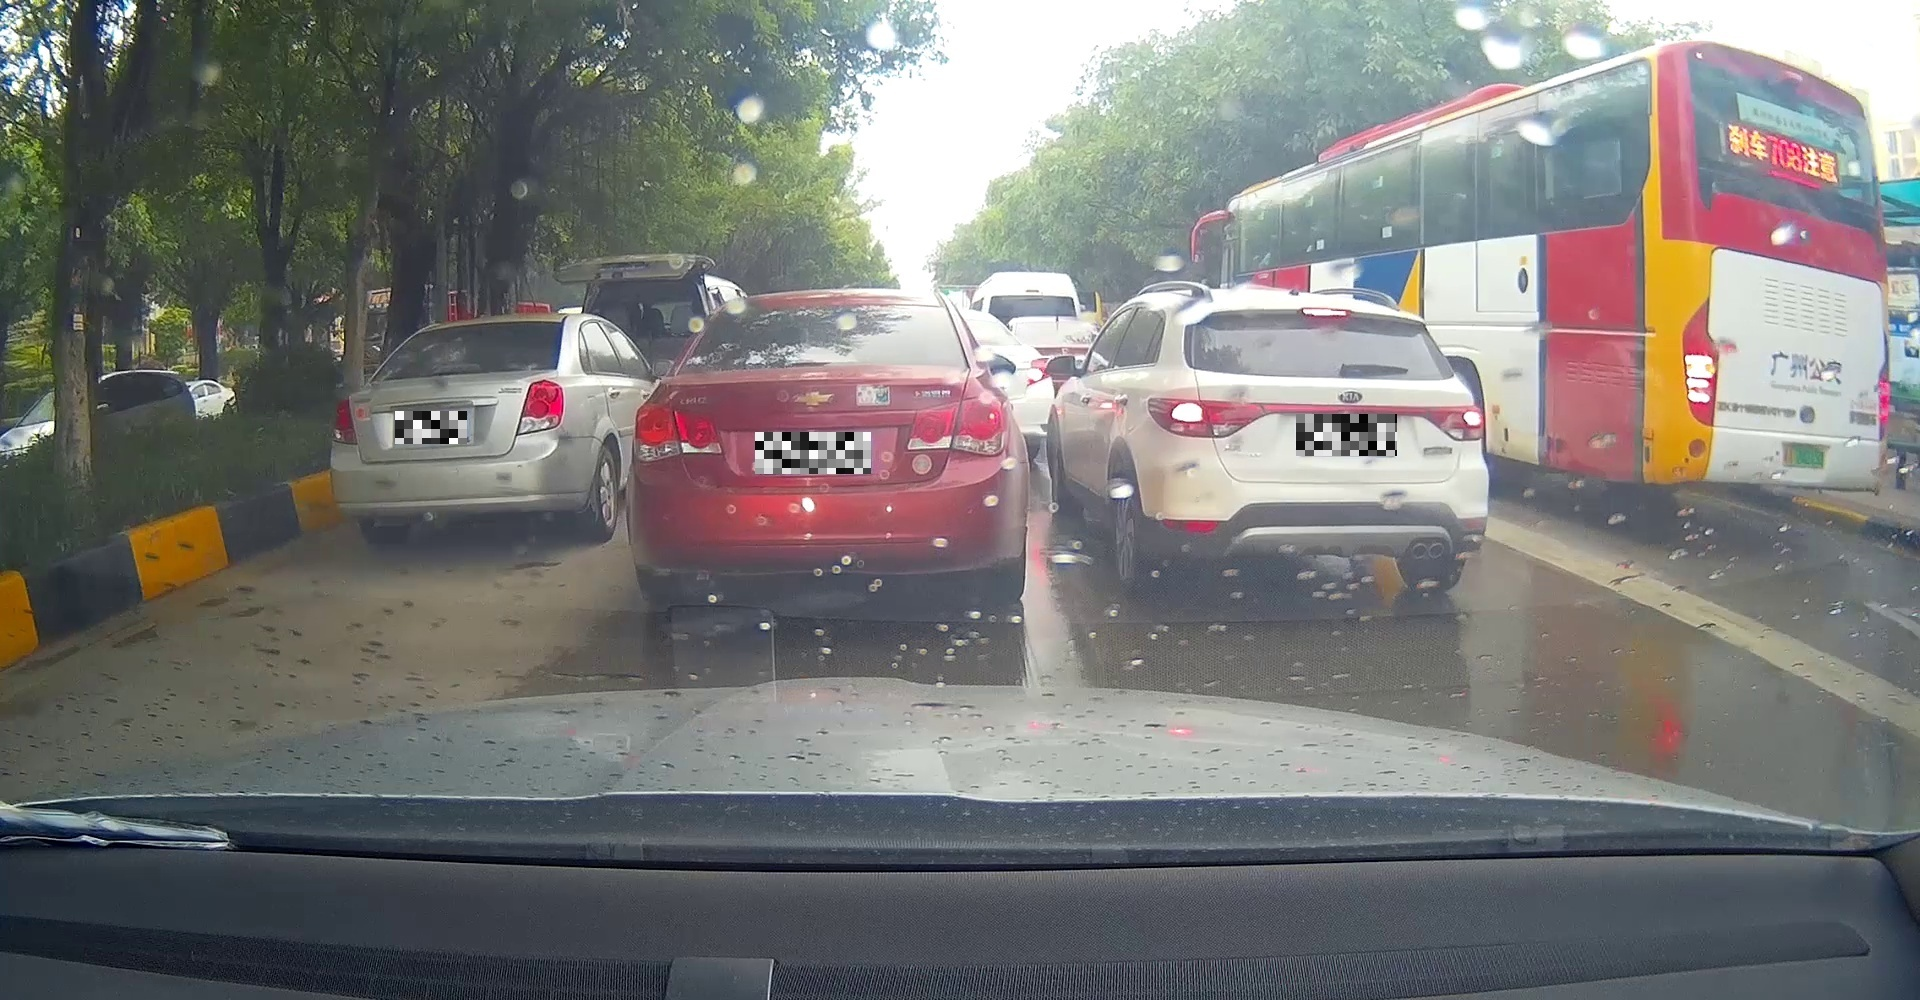L_light: (631, 400, 724, 463), (1679, 294, 1721, 428), (1147, 397, 1263, 439), (331, 396, 358, 445)
R_light: (905, 393, 1010, 456), (514, 379, 565, 437), (1423, 406, 1484, 442), (1876, 331, 1890, 439)
T_light: (1770, 168, 1822, 193), (789, 355, 856, 364), (1302, 308, 1350, 319), (434, 365, 481, 373)
day-brake: (1660, 38, 1892, 503), (1142, 288, 1491, 591)
day-no: (625, 288, 1030, 617), (326, 312, 575, 544)
plate_1: (395, 411, 467, 444)
plate_2: (756, 431, 871, 475)
plate_3: (1297, 414, 1397, 456)
